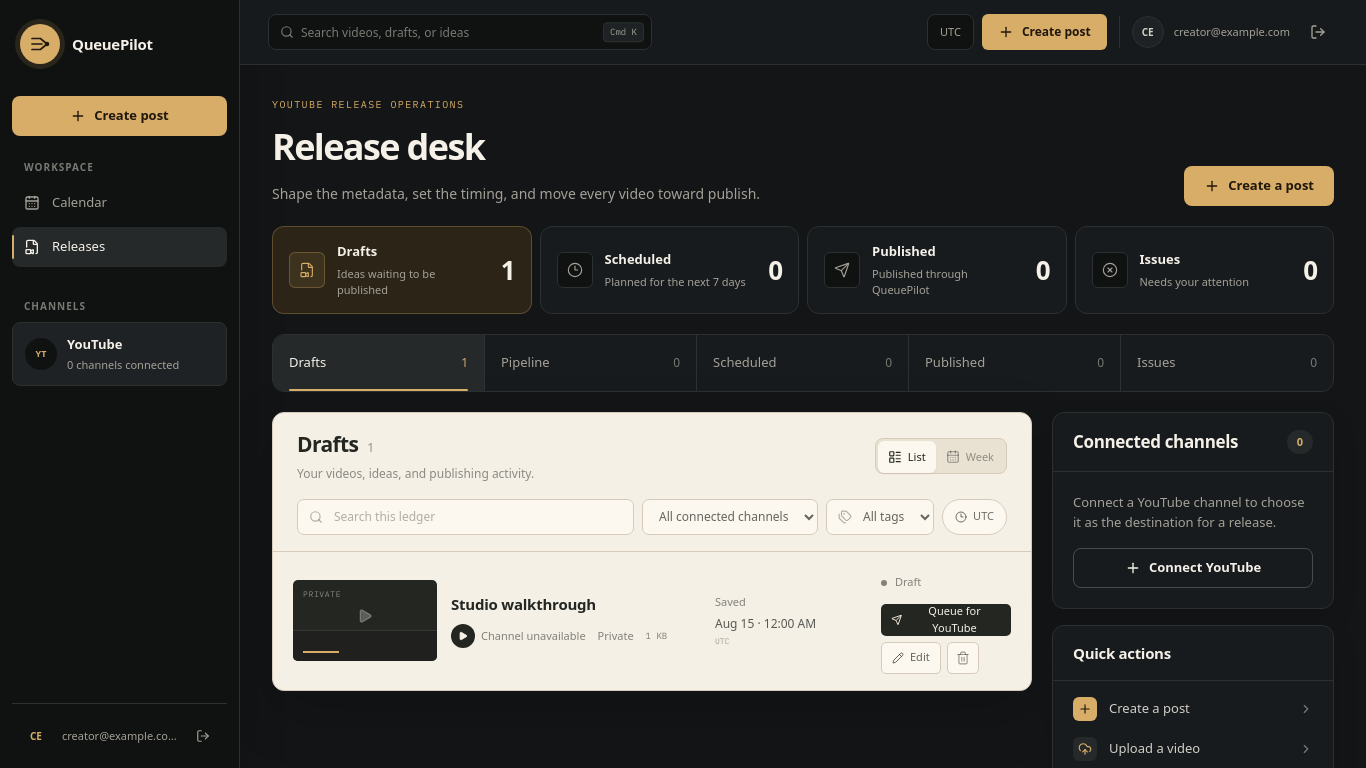
Scenario: Publishing workspace › confirms draft deletion and removes its private storage object
Click the button named "Delete Studio walkthrough" at (963, 658), box [947,642,979,674]
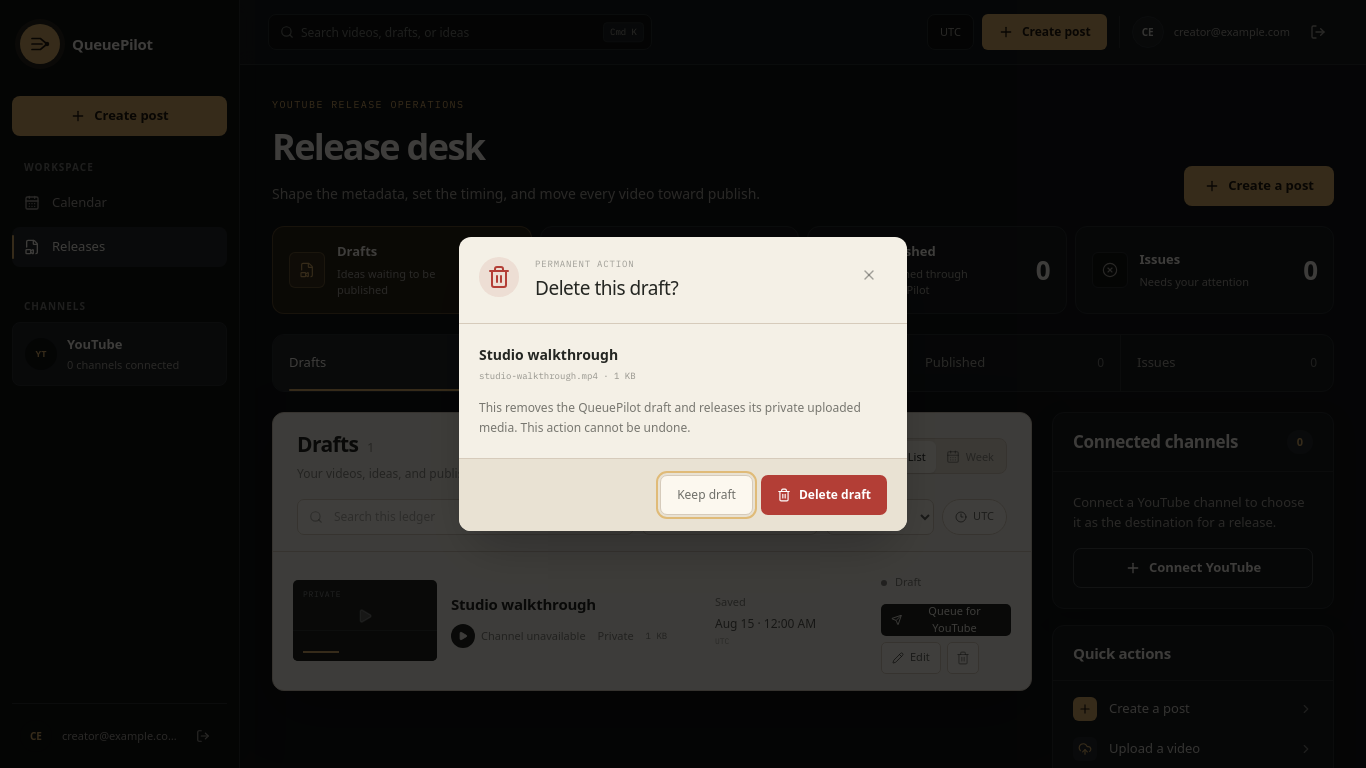
Click the button "Delete draft" at (824, 495), box [761,475,887,515]
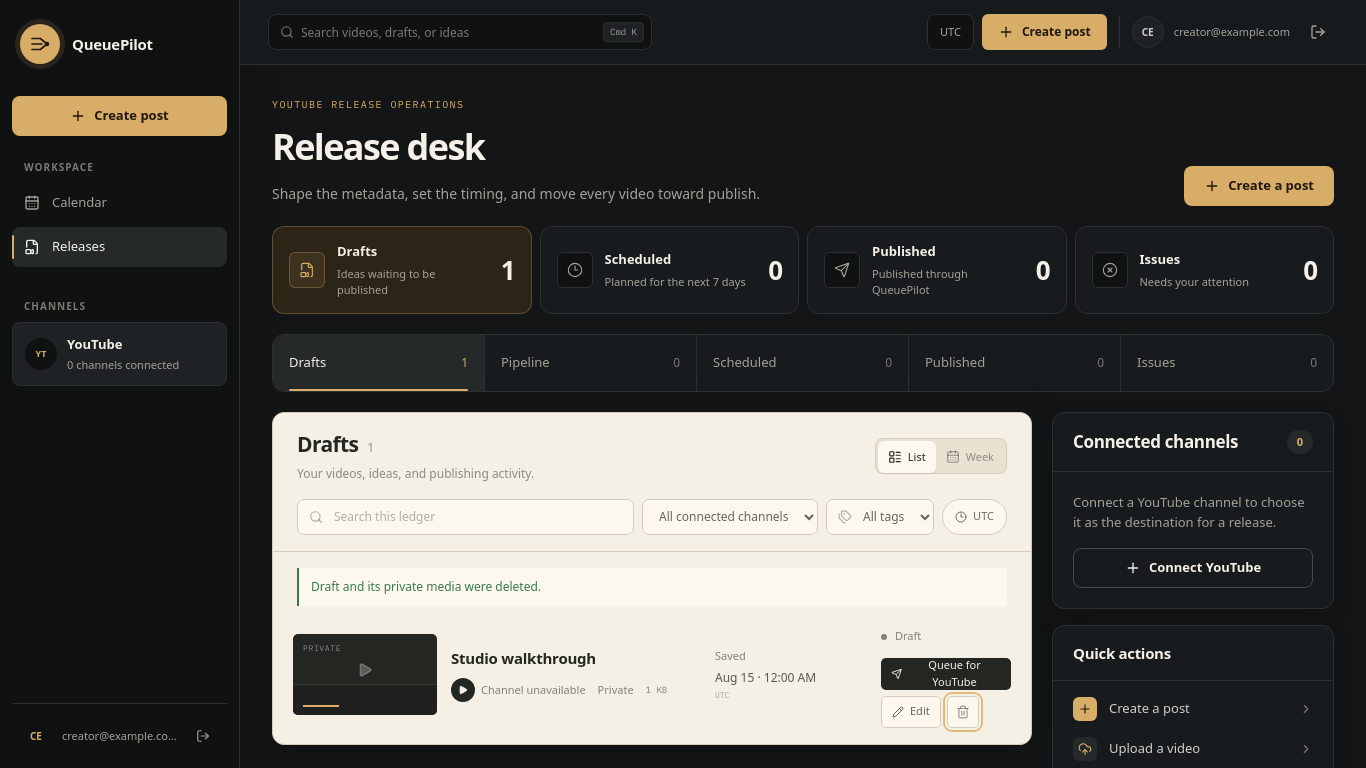
Expected: the message reads "Draft and its private media were deleted.", [311,578,541,594]
